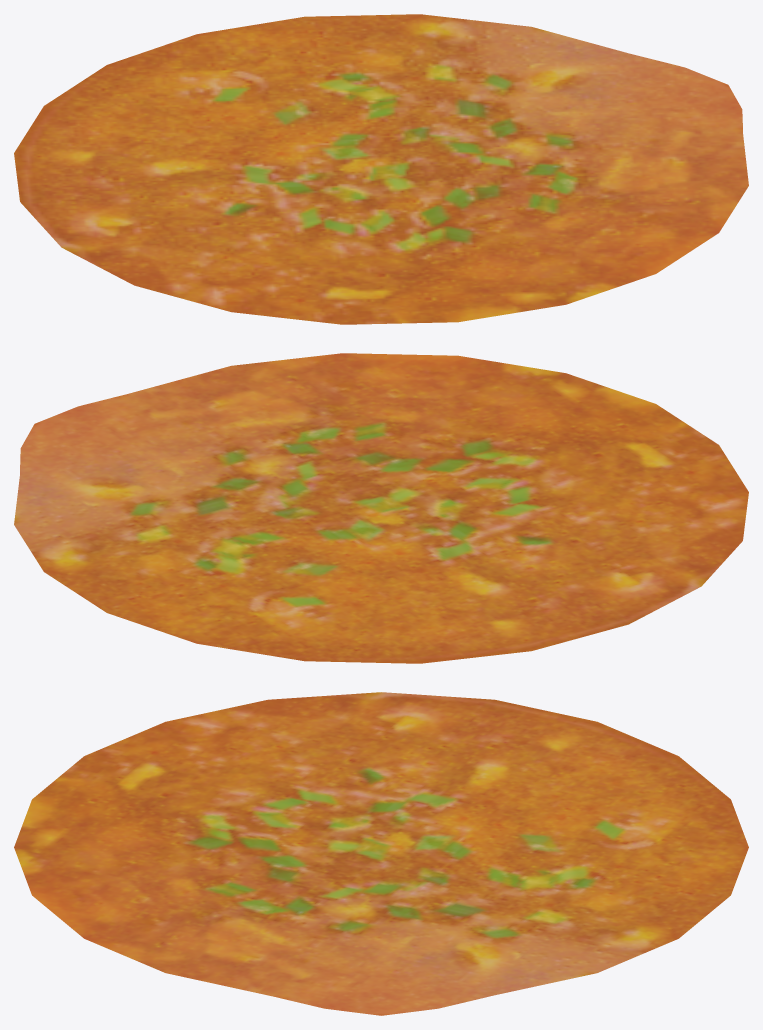
The model's file is JapaneseRestaurant_PotBSoup.fbx.
The picture shows the model from 3 angles, top to bottom: view 1: azimuth 30°, elevation 25°; view 2: azimuth 150°, elevation 25°; view 3: azimuth 270°, elevation 25°; orthographic projection.
Parts seen in each view (by area): view 1: JapaneseRestaurant_PotBSoup; view 2: JapaneseRestaurant_PotBSoup; view 3: JapaneseRestaurant_PotBSoup.
Boxes of the visible parts, left/top/right/bottom form: JapaneseRestaurant_PotBSoup: left=14, top=14, right=748, bottom=324; JapaneseRestaurant_PotBSoup: left=14, top=353, right=748, bottom=663; JapaneseRestaurant_PotBSoup: left=14, top=692, right=748, bottom=1015.
Size of the model in its own units: 18.19 by 7.63e-06 by 17.46.
